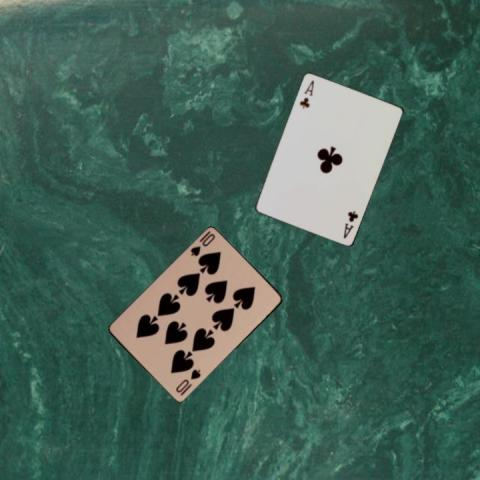10s: (173, 366, 202, 395), (187, 231, 217, 258)
Ac: (340, 208, 359, 240), (297, 77, 315, 110)
